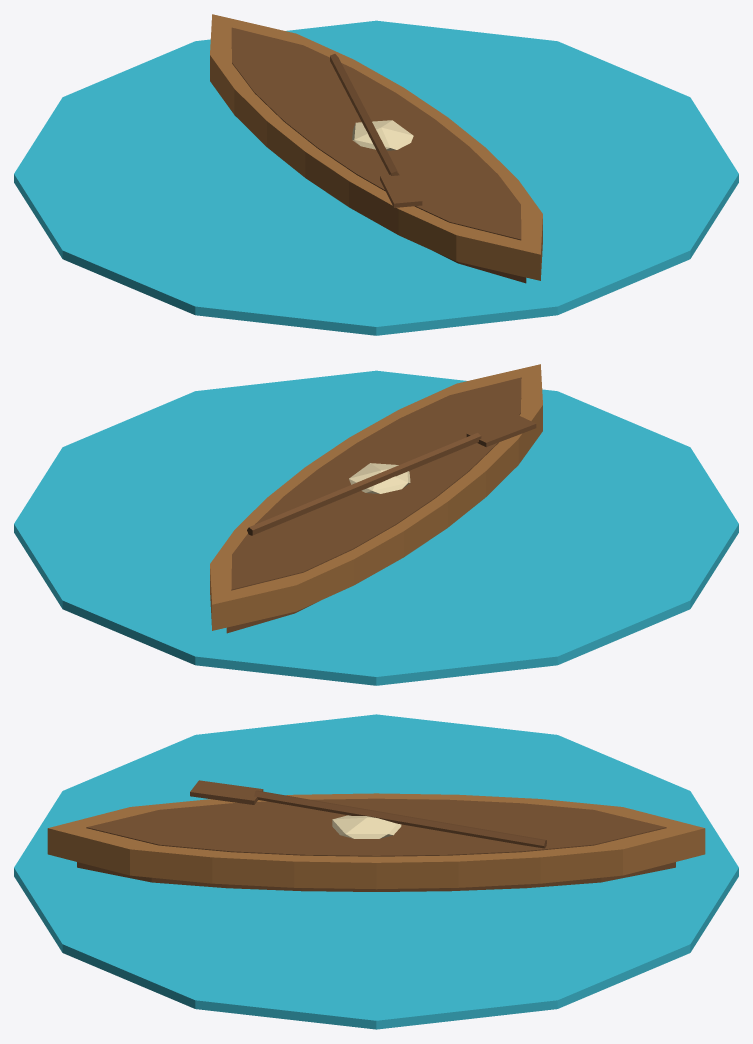
Rendered from kit-cidade-canoa.glb.
The picture shows the model from 3 angles, top to bottom: view 1: azimuth 30°, elevation 25°; view 2: azimuth 150°, elevation 25°; view 3: azimuth 270°, elevation 25°; orthographic projection.
Parts seen in each view (by area): view 1: corpo; view 2: corpo; view 3: corpo.
Boxes of the visible parts, x1,y1,x2,y2 form: corpo: [14, 14, 738, 335]; corpo: [14, 364, 738, 685]; corpo: [14, 714, 738, 1029].
Bounding box in the file's own units: 1.5 × 0.1496 × 1.5.
